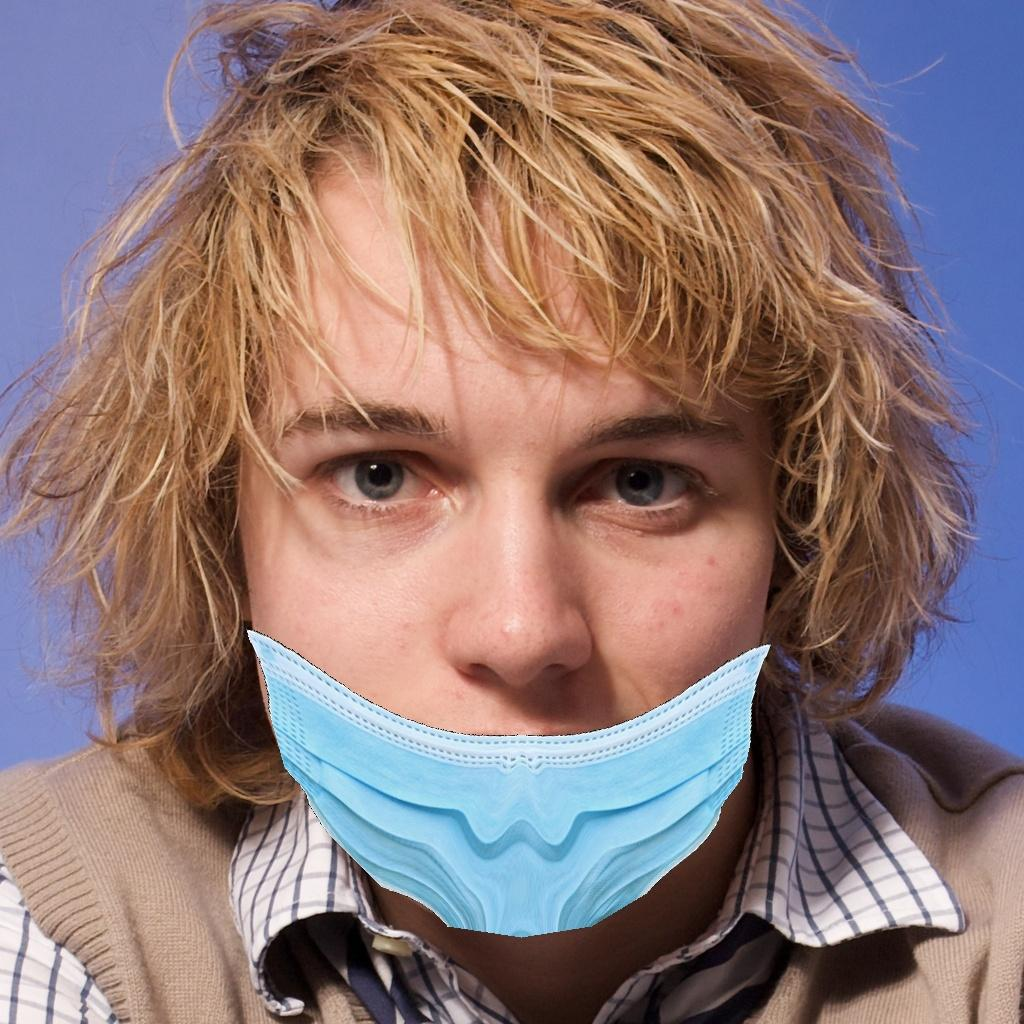Máscara Incorreta: (200, 289, 798, 911)
